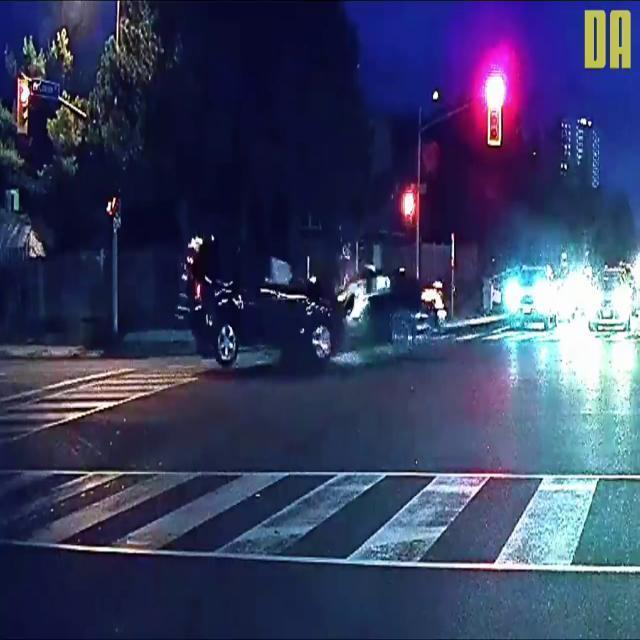accident: (175, 230, 449, 372)
non-accident: (500, 262, 640, 334)
